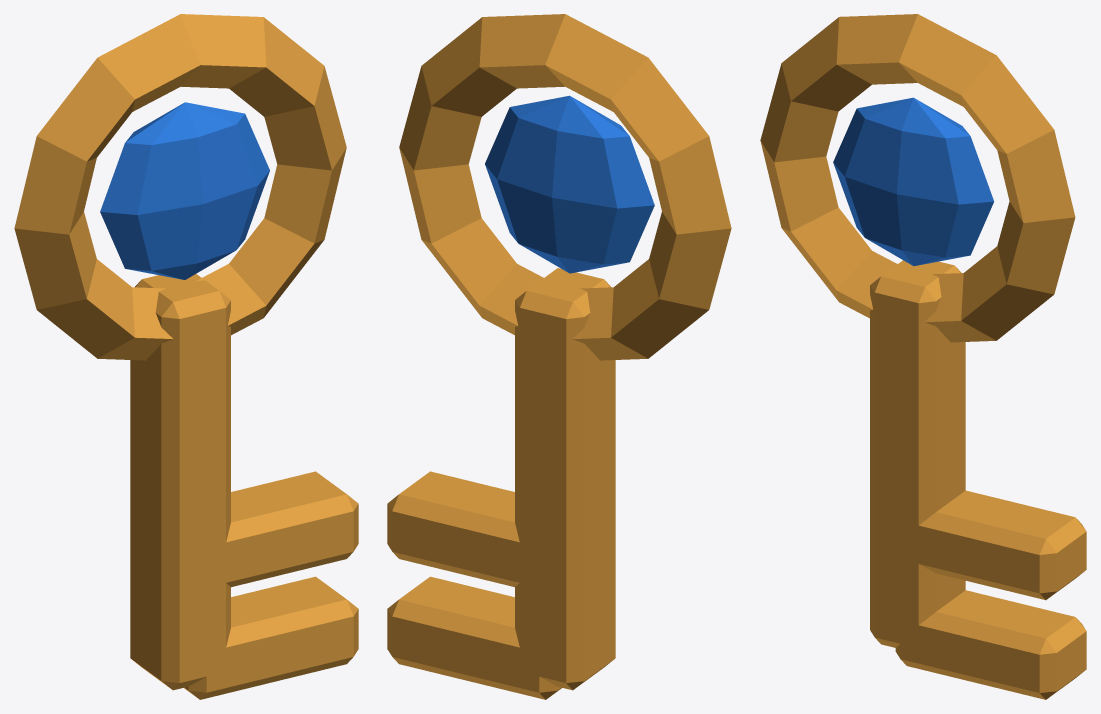
File: key_blue.glb
3 renders of one model, left to right at view 1: azimuth 30°, elevation 25°; view 2: azimuth 150°, elevation 25°; view 3: azimuth 330°, elevation 25°, orthographic. The views are drawn at different scales.
Parts seen in each view (by area): view 1: key_blue_Surface; view 2: key_blue_Surface; view 3: key_blue_Surface.
Part boxes in pixels (bbox=[...]): key_blue_Surface: bbox=[14, 14, 358, 699]; key_blue_Surface: bbox=[387, 14, 731, 699]; key_blue_Surface: bbox=[760, 14, 1086, 699].
Size of the model in its own units: 0.43 by 0.835 by 0.1.
1 material, 1 textured.
